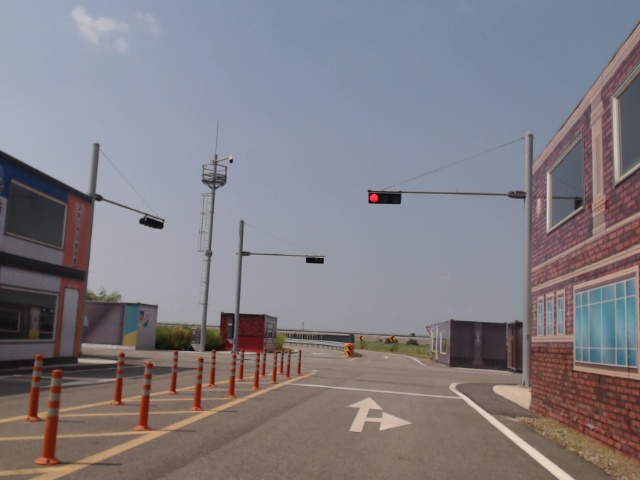red_3: (368, 190, 402, 205)
